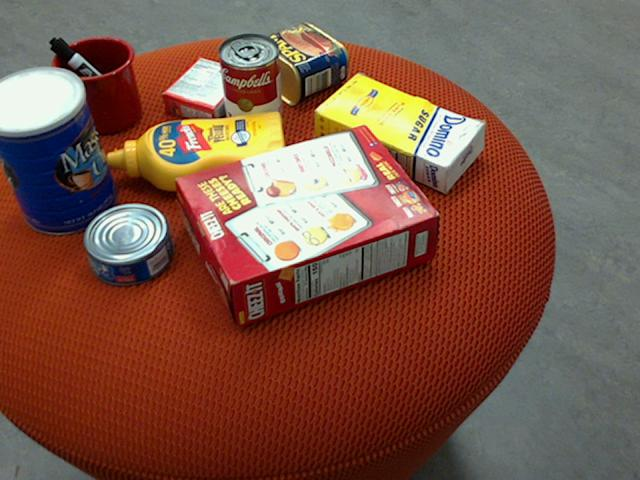cracker_box: (175, 123, 440, 326)
gelatin_box: (162, 56, 252, 125)
large_marker: (49, 36, 137, 117)
master_chef_can: (0, 66, 117, 235)
mug: (38, 36, 142, 133)
mustard_bottle: (107, 111, 288, 191)
potted_meat_can: (247, 23, 350, 106)
sugar_box: (314, 74, 487, 191)
tomato_soup_can: (218, 31, 283, 139)
tuna_fish_can: (83, 204, 174, 287)
